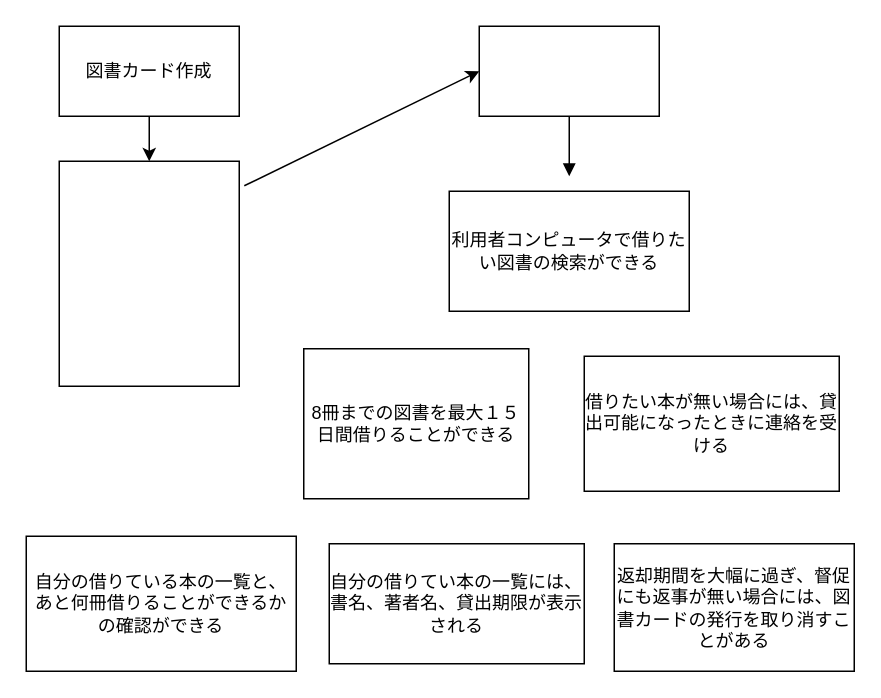
This 881x698 diagram has some shape labels left out. The centre of each missing label's shape, as x and y in pixels:
"図書カード" belongs at point (568, 70).
"氏名 住所 電話番号 電子メール・アドレス IDナンバー パスワード" belongs at point (148, 273).
